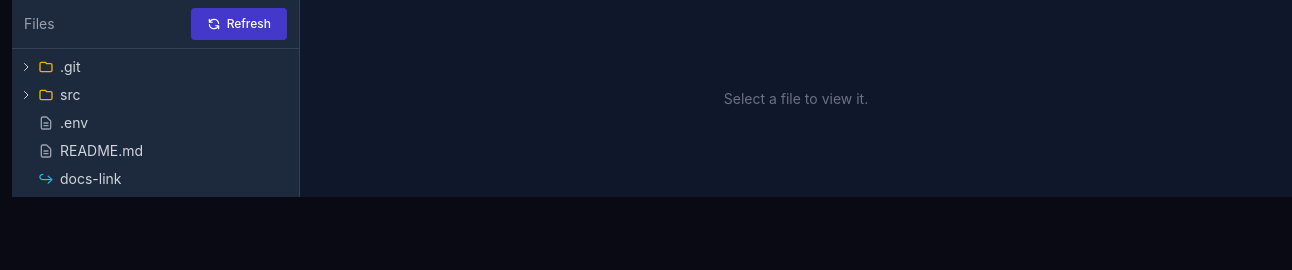
it: FileViewerWorkerView (desktop) › Refresh › re-lists every open directory (and not a closed one) and re-reads the selected file
Click the button "src" at (26, 95), box [12,81,299,109]
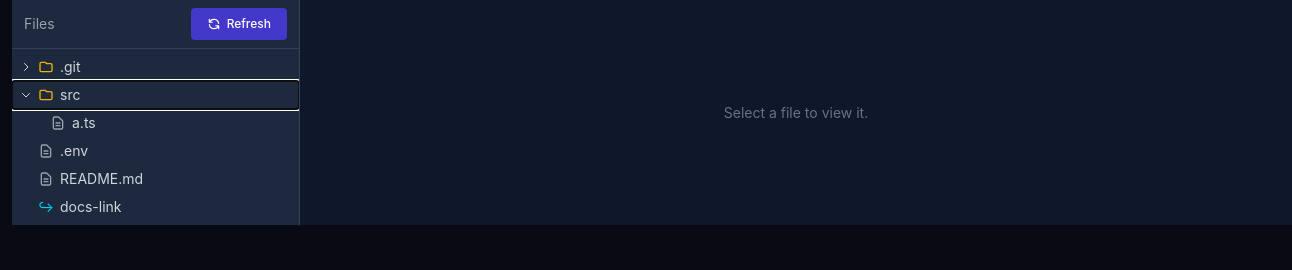
Check: the button "a.ts" is shown, box [12,109,299,137]
Click the button "README.md" at (102, 178), box [12,165,299,193]
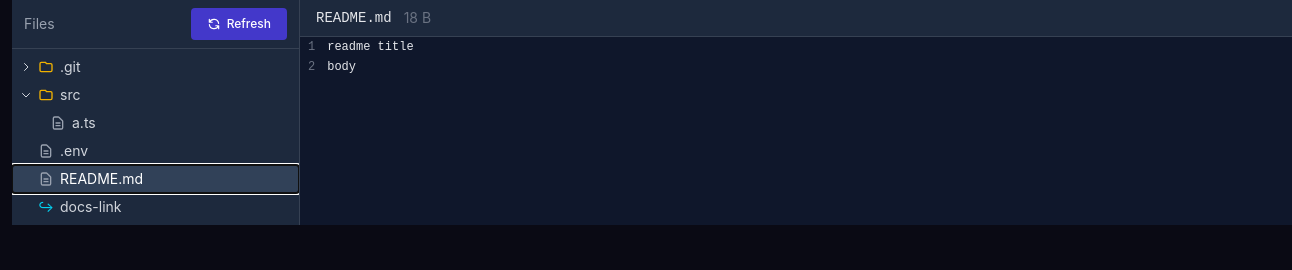
Check: the text "readme title" is shown, box [327,40,414,54]
Click the button "Refresh" at (239, 24), box [191,8,287,40]
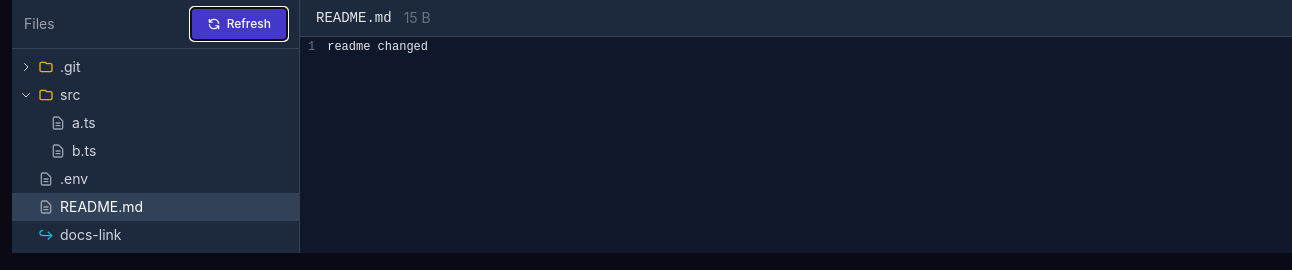
Check: the button "b.ts" is shown, box [12,137,299,165]
Check: the text "readme changed" is shown, box [327,40,428,54]
